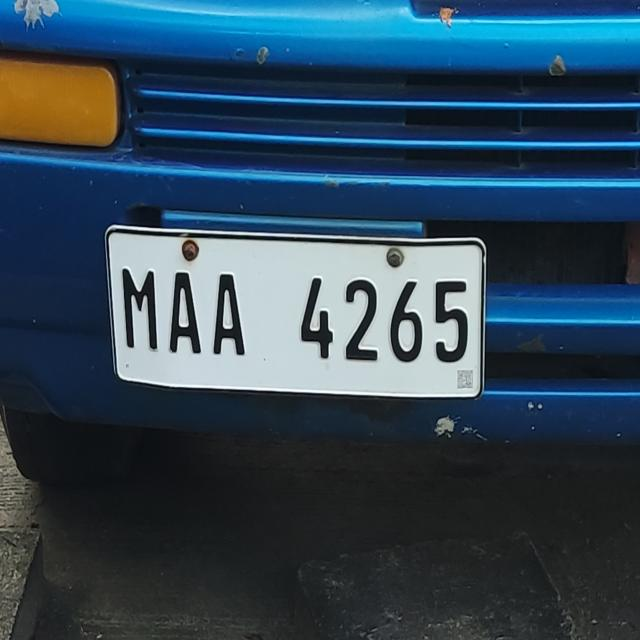plate: (102, 221, 490, 403)
